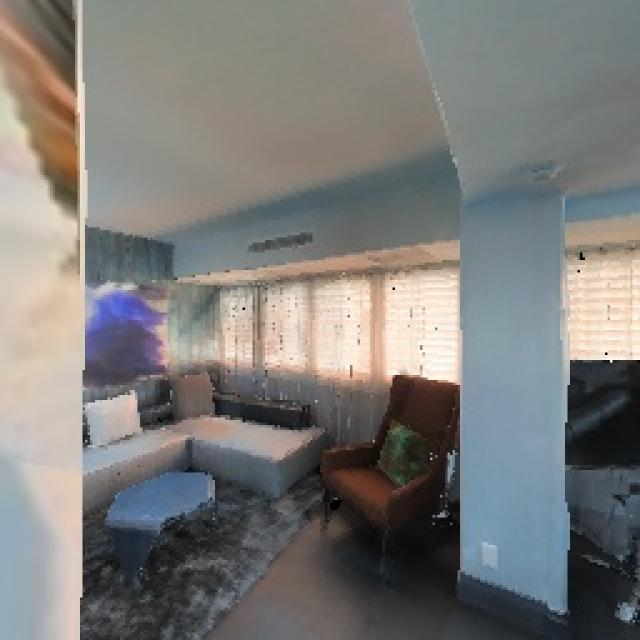chair: (308, 356, 469, 561)
sofa: (66, 359, 327, 502)
